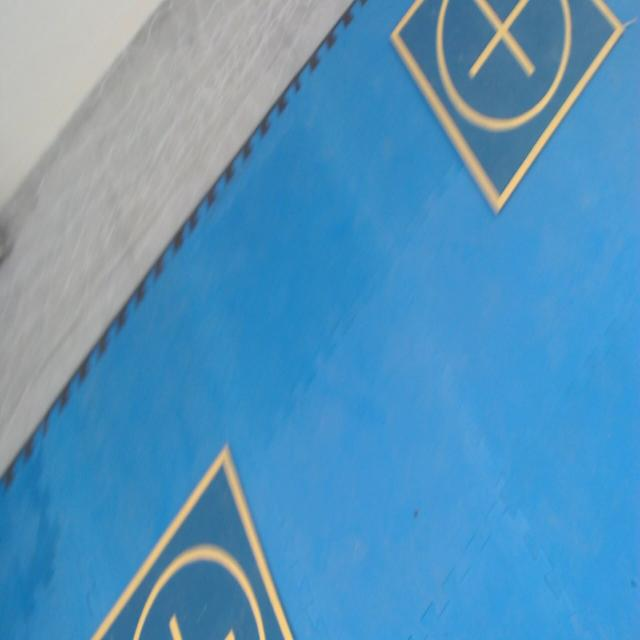base_pouso: (391, 0, 627, 215), (89, 443, 298, 639)
